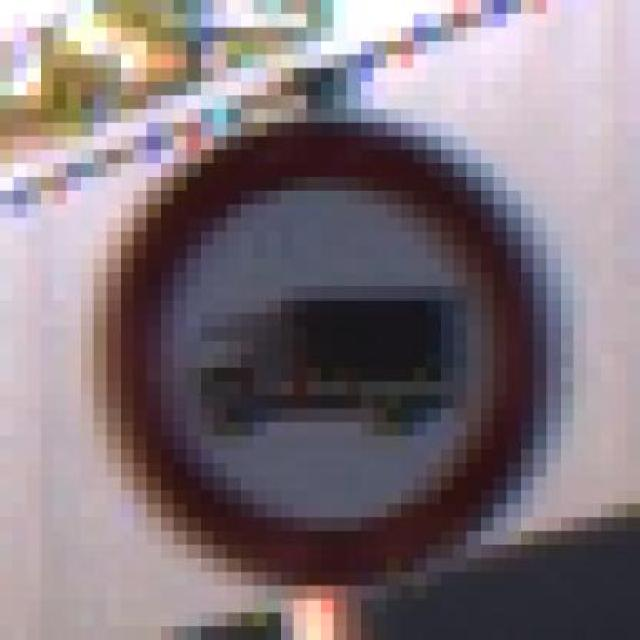Truck traffic is prohibited: (80, 108, 560, 600)
